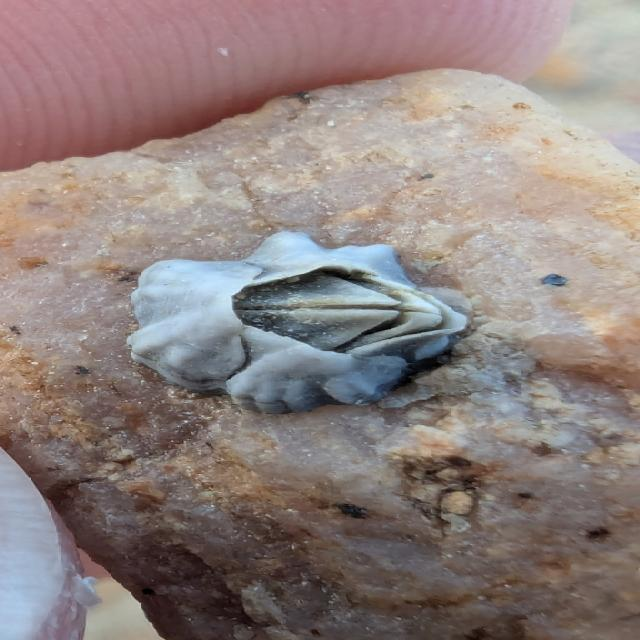barnacles: (136, 210, 463, 428)
